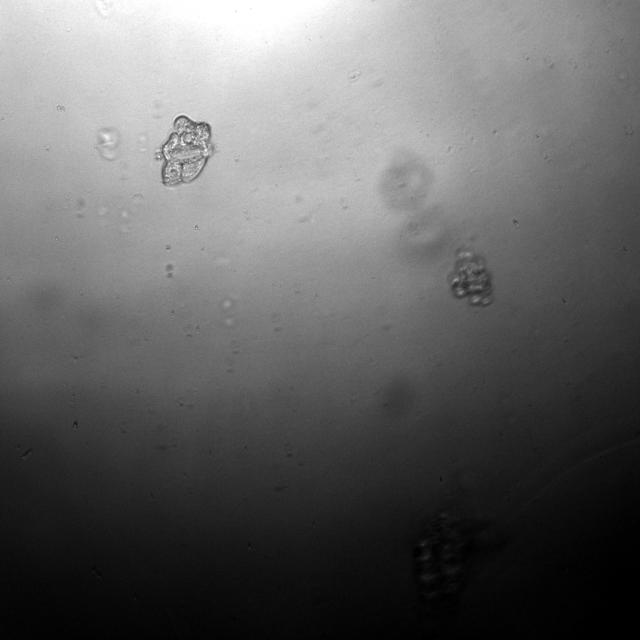organoid: (161, 115, 211, 185), (449, 249, 491, 305)
